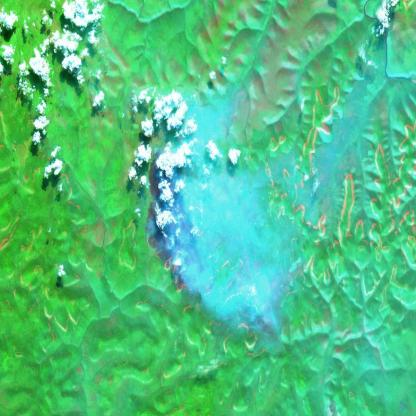fire: (145, 150, 286, 292)
